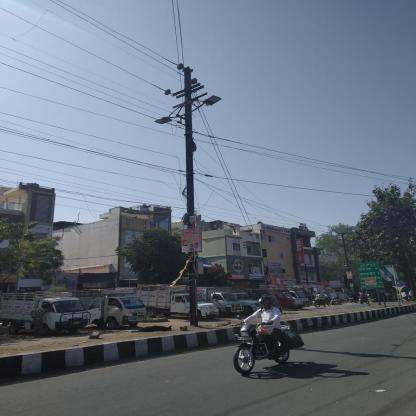Electrical Pole: (154, 61, 241, 327)
